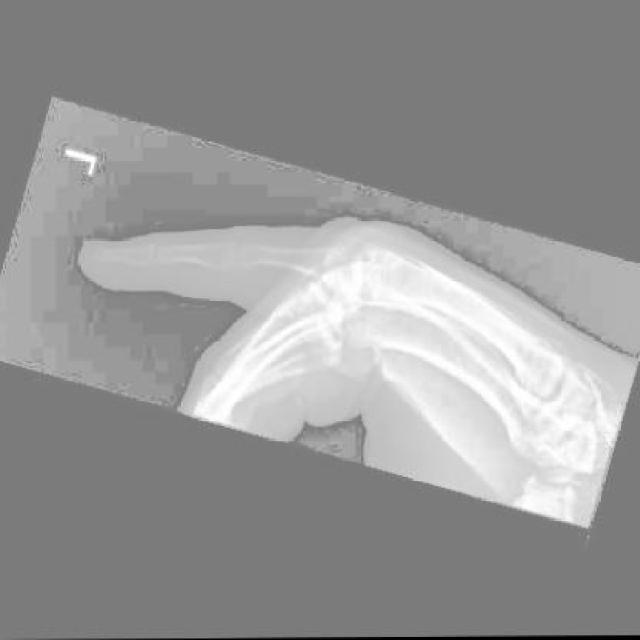Fracture: (222, 259, 247, 279)
